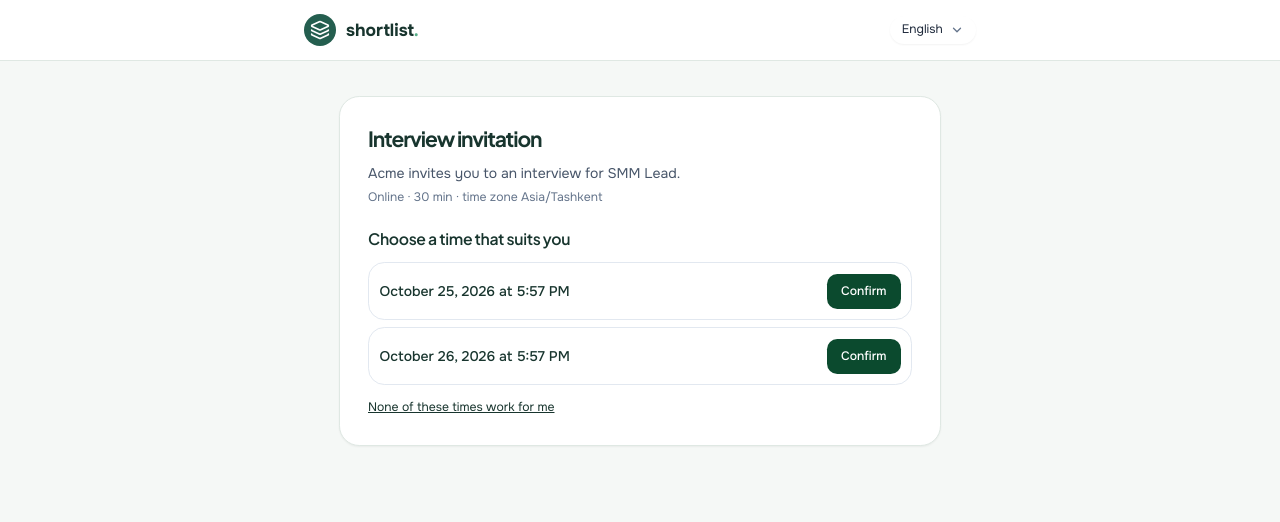
candidate interview page › lets the candidate say none of the times work
The width and height of the screenshot is (1280, 522).
Click the button "None of these times work for me" at (461, 408), box [368,399,554,417]
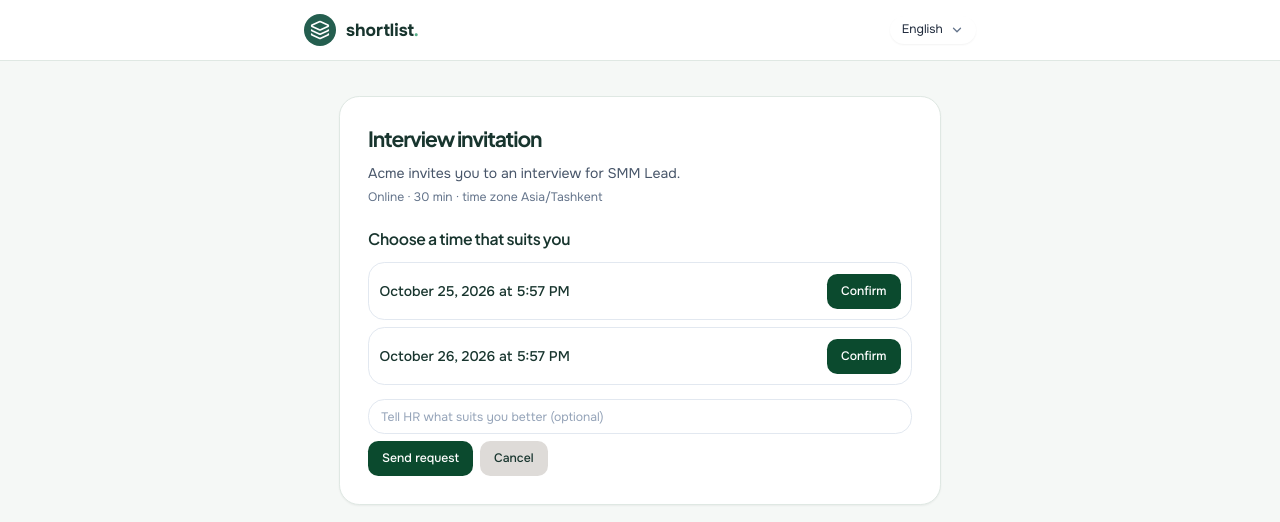
Type "Mornings only" into the field with placeholder "Tell HR what suits you better (optional)" at (640, 417), box [368,399,912,434]
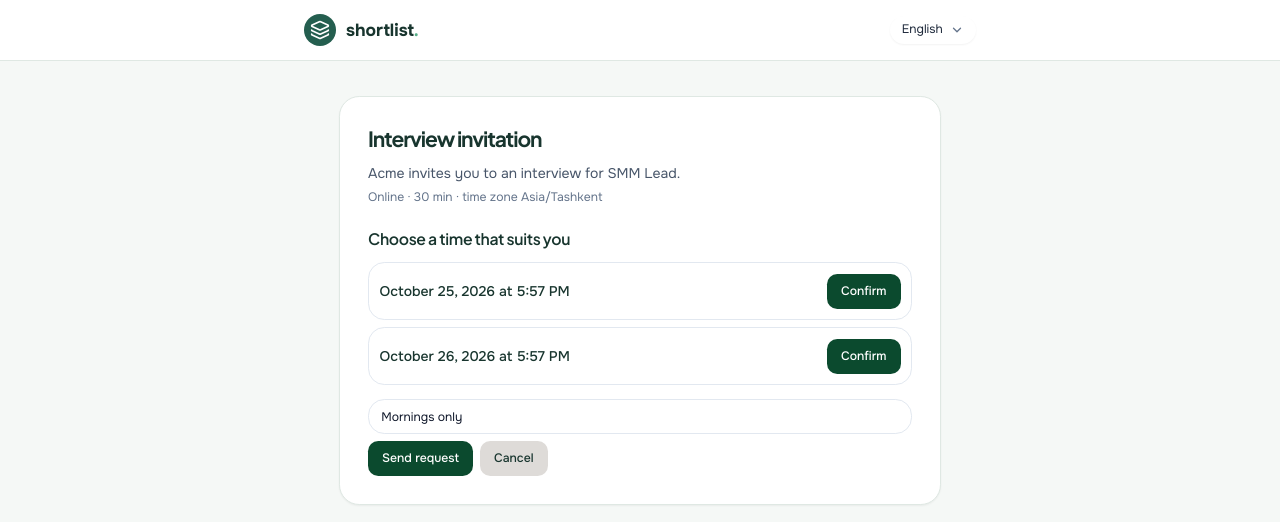
Click the button "Send request" at (420, 459), box [368,441,473,476]
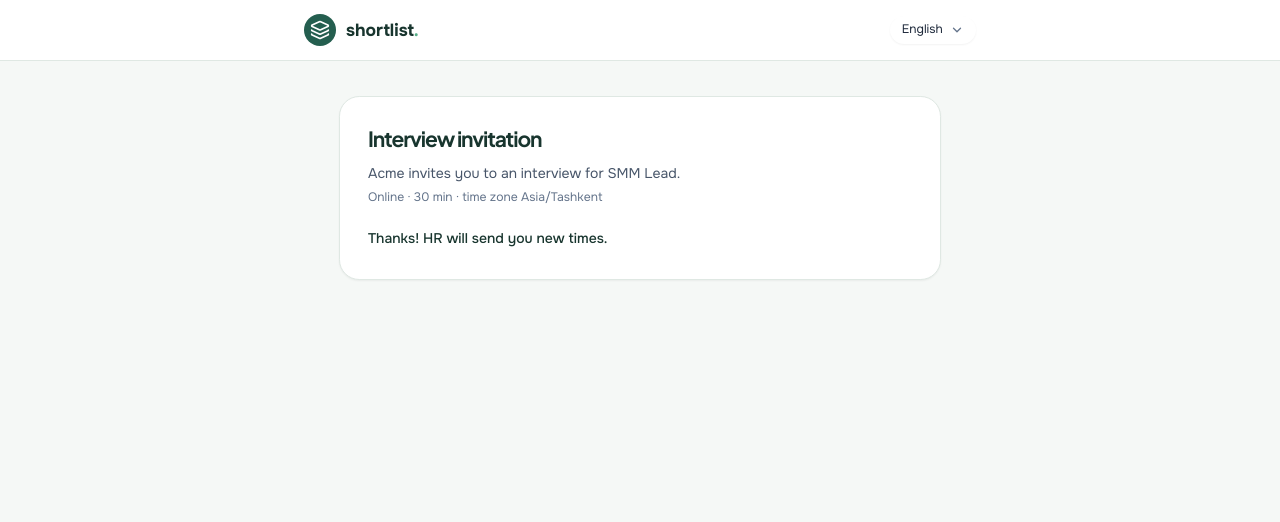
Result: the text "Thanks! HR will send you new times." is shown at [368,229,608,247]
